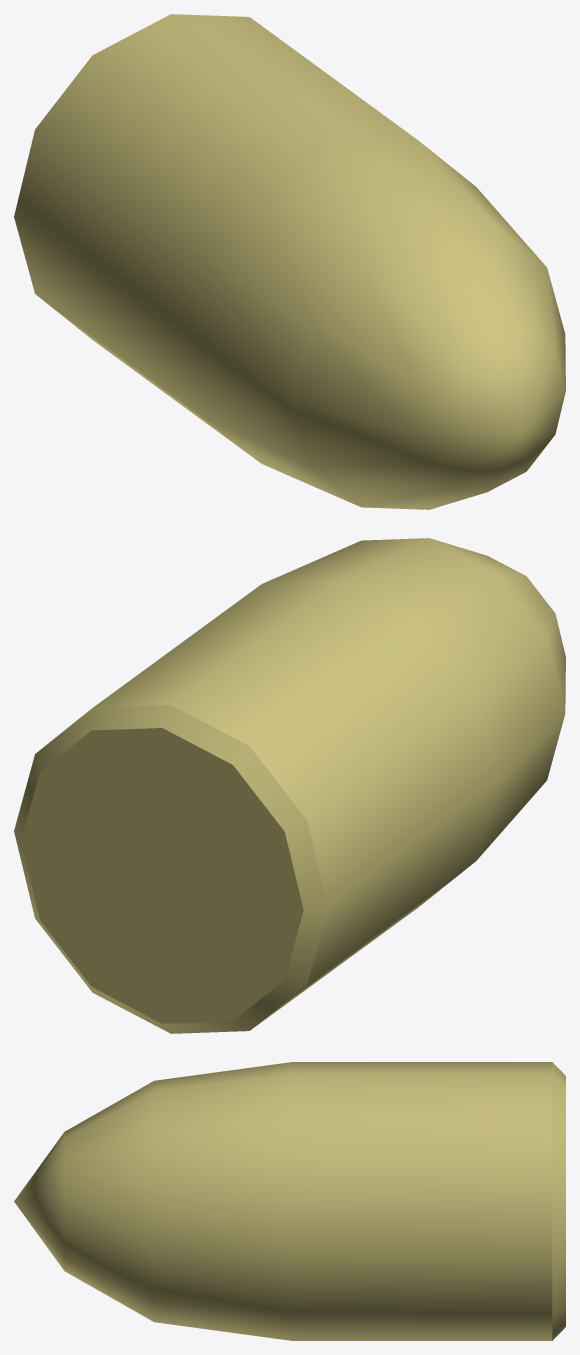
The model's file is MINISHIP_BULLET.fbx.
The picture shows the model from 3 angles, top to bottom: view 1: azimuth 30°, elevation 25°; view 2: azimuth 150°, elevation 25°; view 3: azimuth 270°, elevation 25°; orthographic projection. The views are drawn at different scales.
Visible parts, largest first — view 1: Bullet; view 2: Bullet; view 3: Bullet.
Boxes of the visible parts, <box> form: Bullet: <box>14,14,565,509</box>; Bullet: <box>14,538,565,1033</box>; Bullet: <box>14,1062,565,1340</box>.
Bounding box in the file's own units: 15.57 × 15.57 × 30.71.
